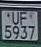3: (20, 25, 29, 41)
5: (4, 25, 13, 41)
7: (28, 25, 36, 42)
9: (12, 25, 21, 41)
F: (20, 11, 28, 26)
U: (12, 11, 20, 26)
